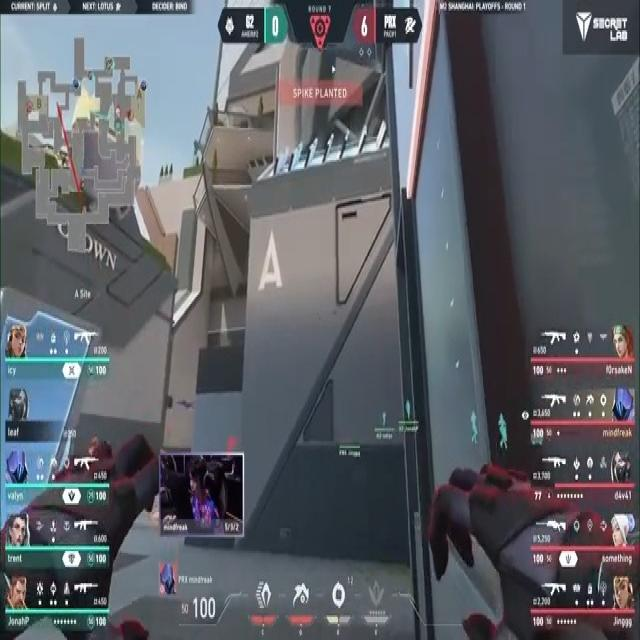ally behind wall: (497, 409, 508, 454), (470, 408, 482, 448), (405, 396, 414, 420), (382, 411, 388, 422)
